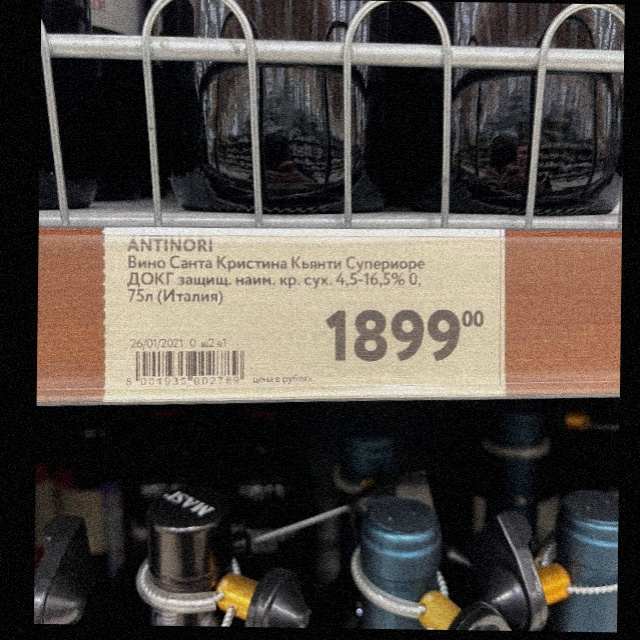barcode: (125, 348, 247, 386)
name: (122, 237, 426, 312)
price: (325, 303, 488, 369)
price_tag: (103, 227, 507, 398)
